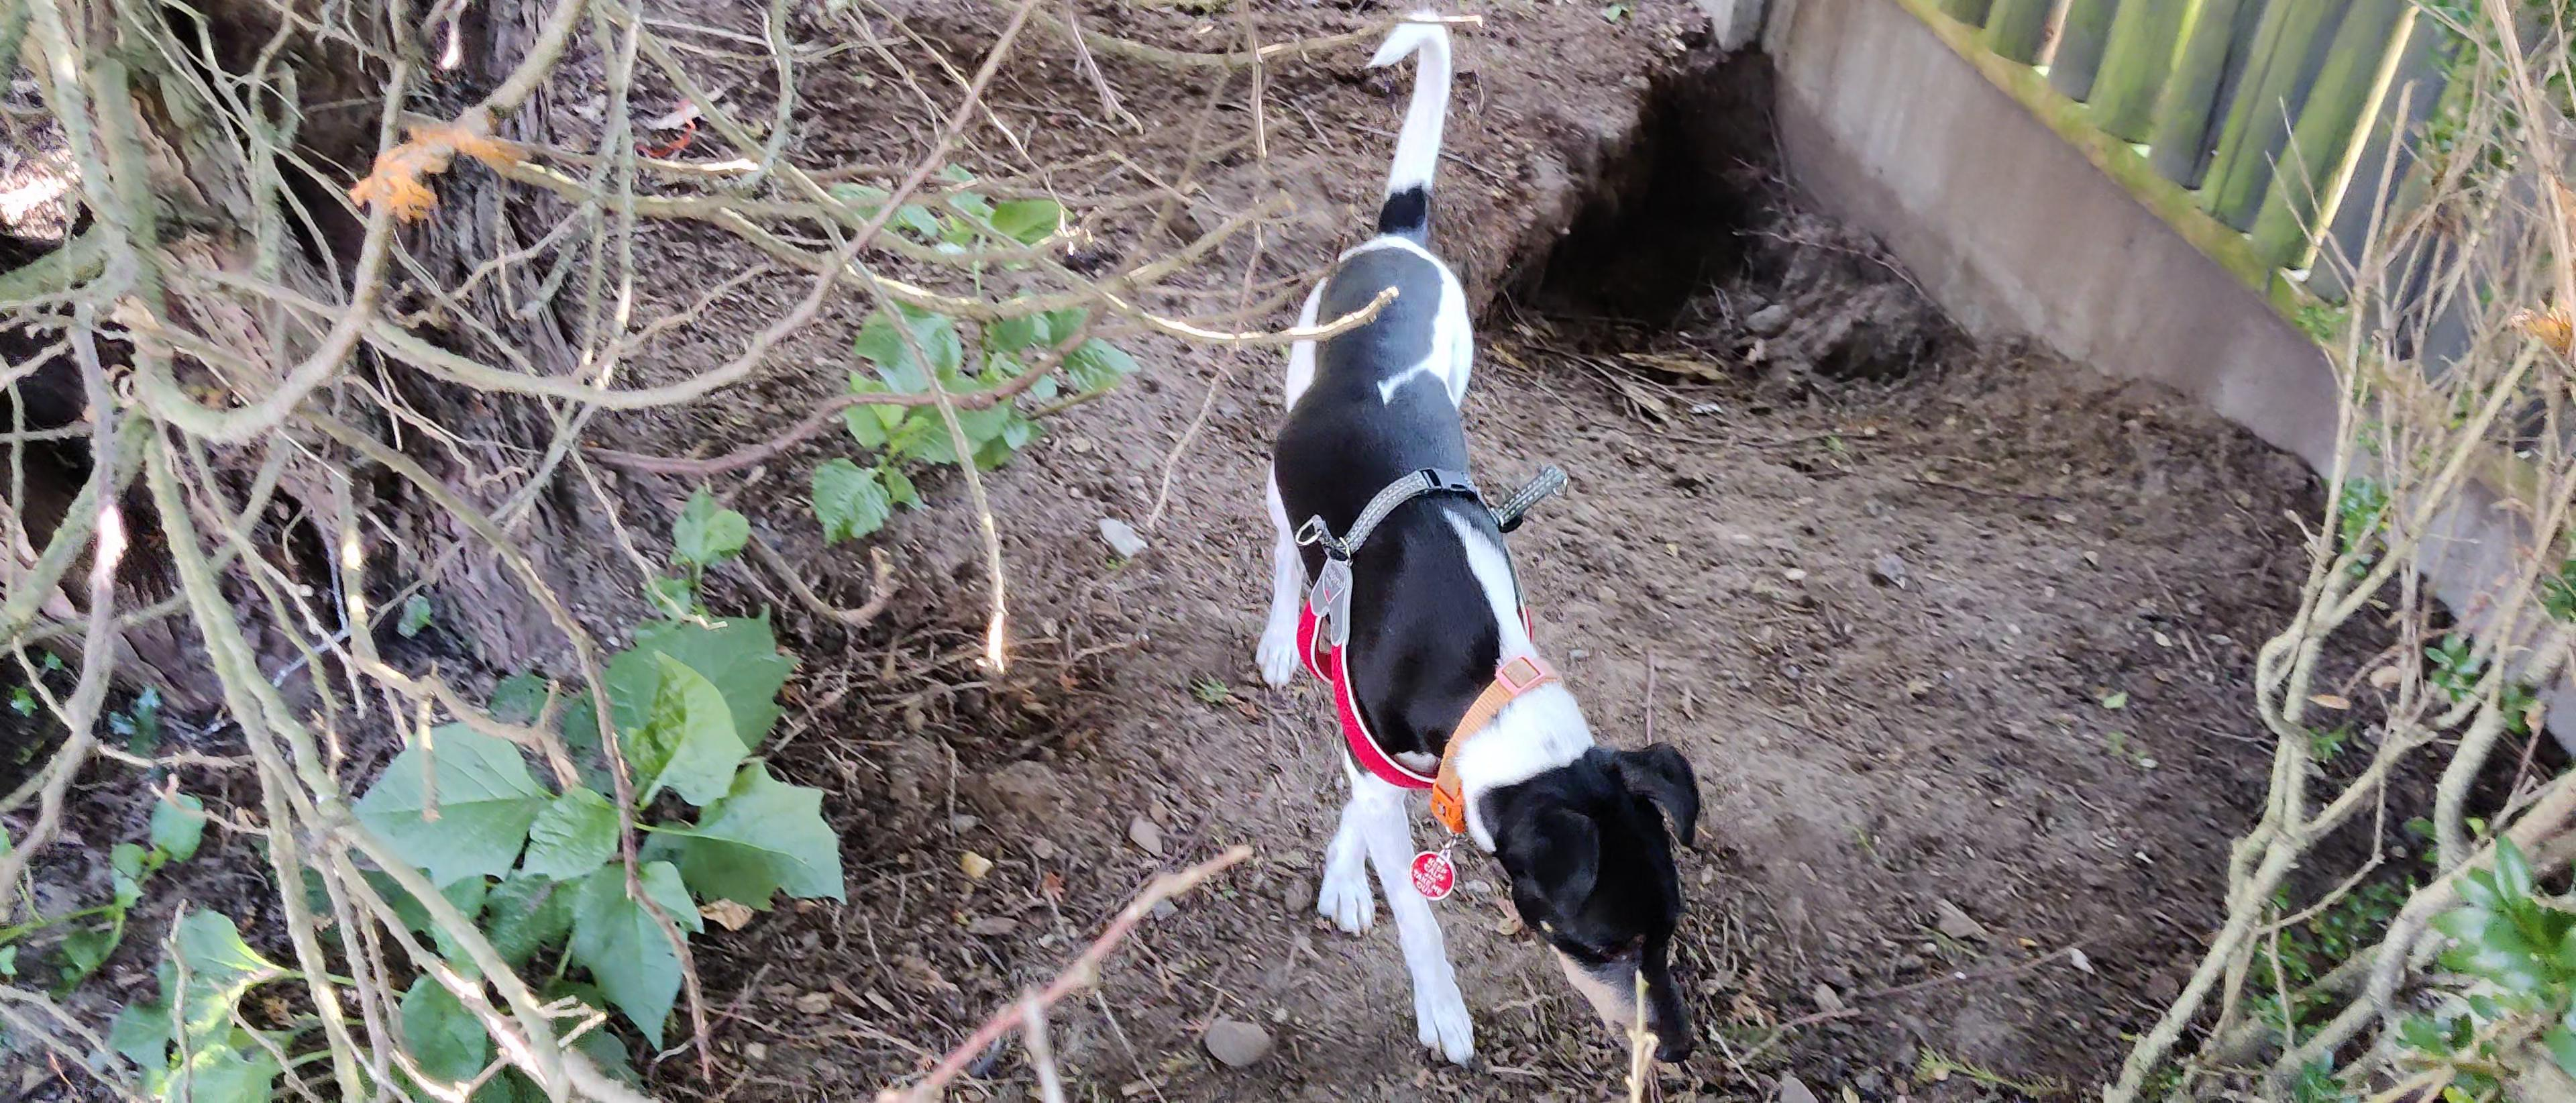Dog: (1207, 0, 1735, 1082)
